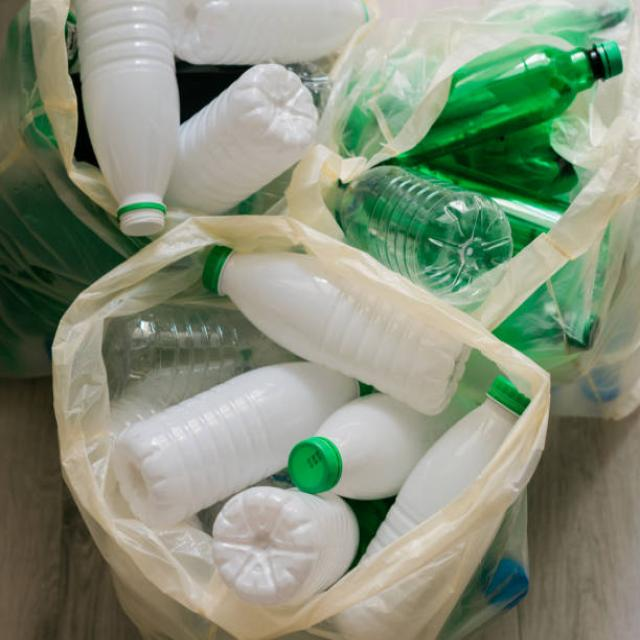plastic: (118, 265, 403, 564), (351, 44, 565, 252), (87, 3, 296, 210)
